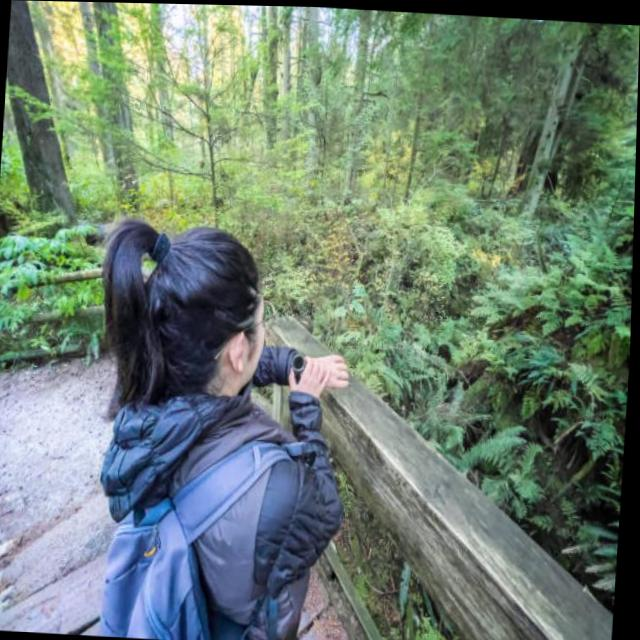no helmet: (58, 200, 318, 443)
